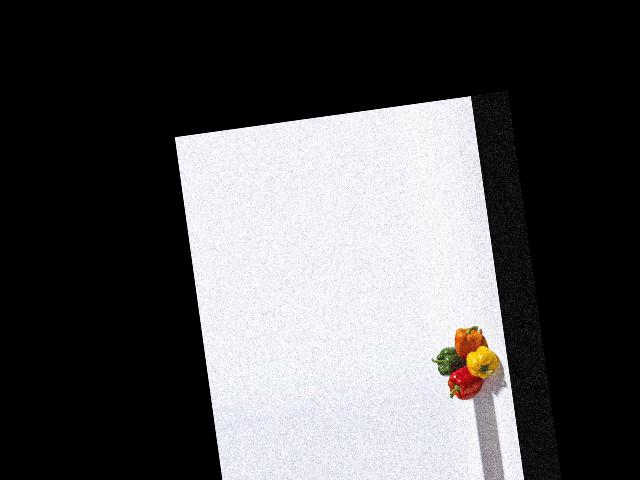bell_pepper: (442, 364, 485, 403)
